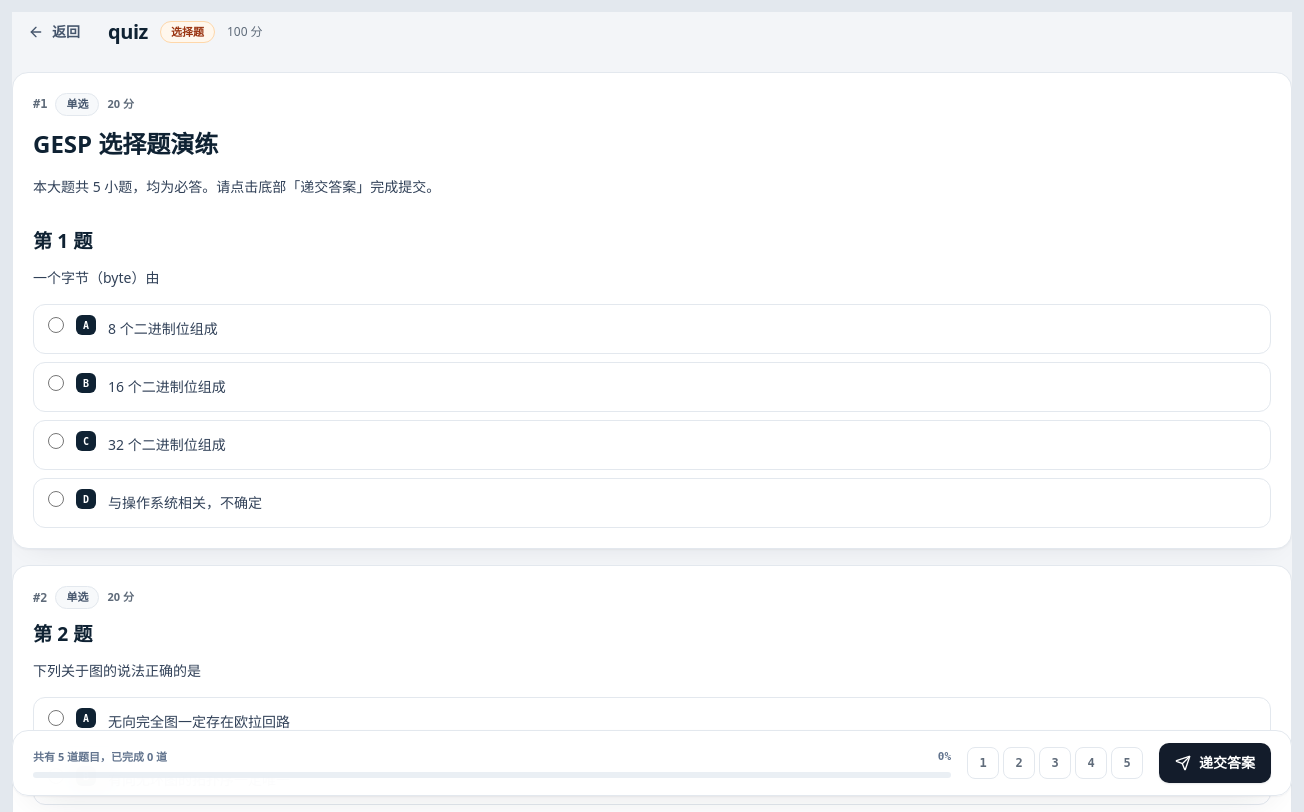
ChoiceAnswerPanel › warns when submitting an empty sheet
Expected: the text "#1" is shown, [33, 96, 48, 112]
Step 1. Click the button with test id "choice-submit" → (1215, 763), box [1159, 743, 1271, 783]
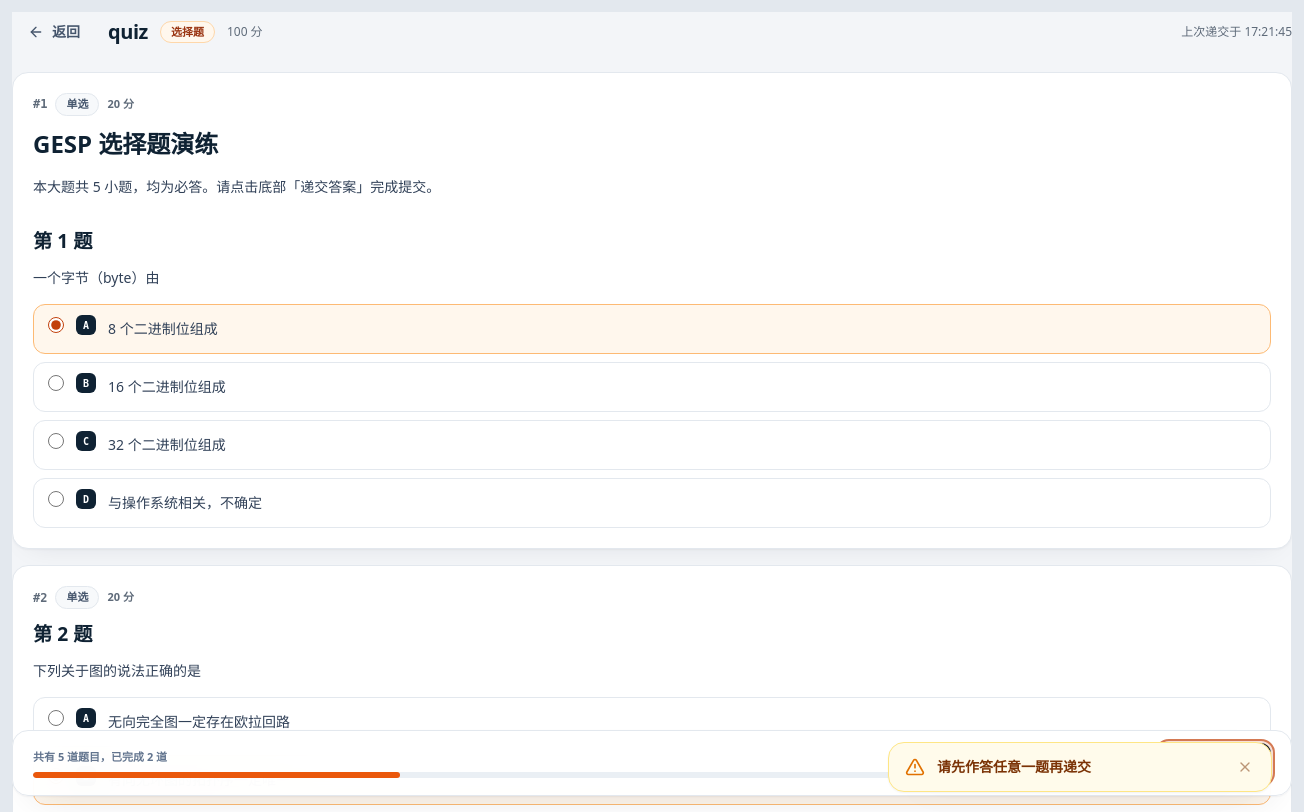
Expected: the text "请先作答任意一题再递交" is shown, [937, 757, 1091, 776]
